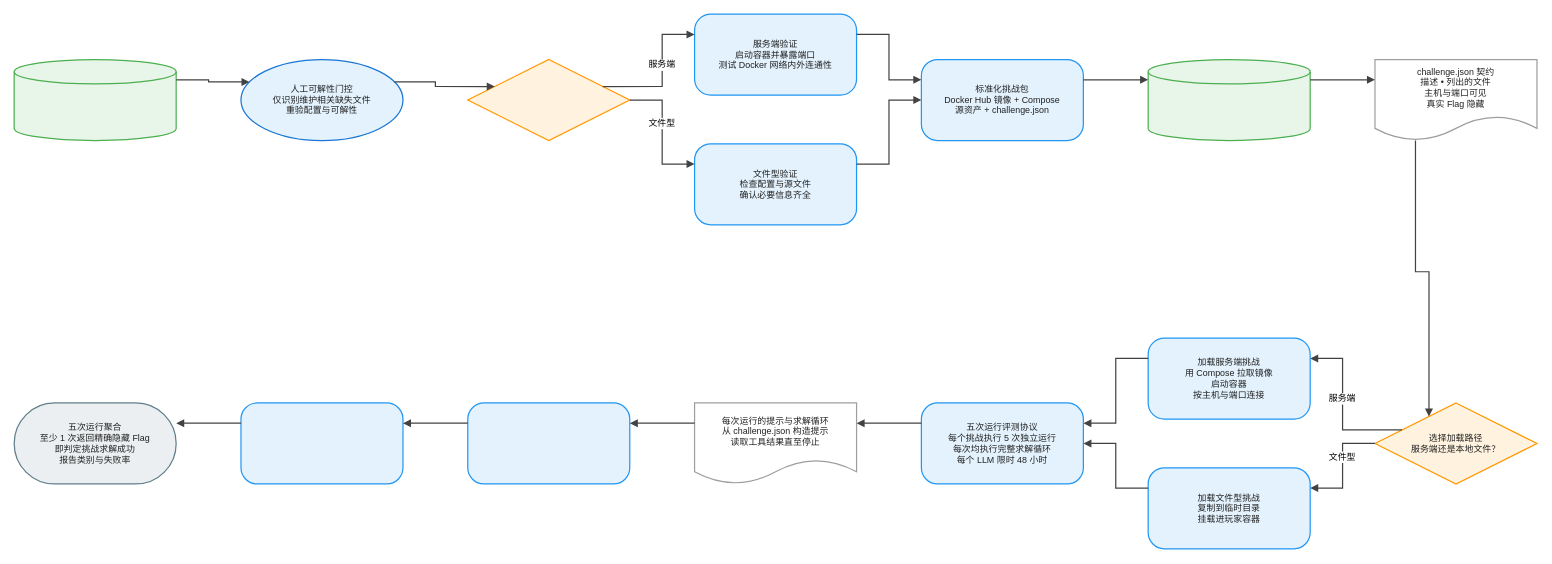
Some shapes in this 1552 by 564 pixel diagram are drawn without their labels. The shapes that lost their labels are listed below. From the top down, each one's centre as x and y in pixels, then its label:
At point 94,100: "CSAW CTF 源档案 568 个挑战 • 2011–2023".
At point 548,100: "选择验证路径 服务端还是文件型挑战？".
At point 1228,100: "验证后的 NYU CTF Bench 200 个挑战 • 2017–2023 6 类挑战 密码 / 取证 / 二进制利用 逆向 / Web / 杂项".
At point 321,443: "每次运行的 Flag 精确检查 check_flag 做相等比较 随后停止容器并清理文件".
At point 548,443: "每次运行的工具交互 至多 6 个按类别配置的工具 命令 • 创建 / 检查文件 反汇编 • 反编译 • 放弃".
